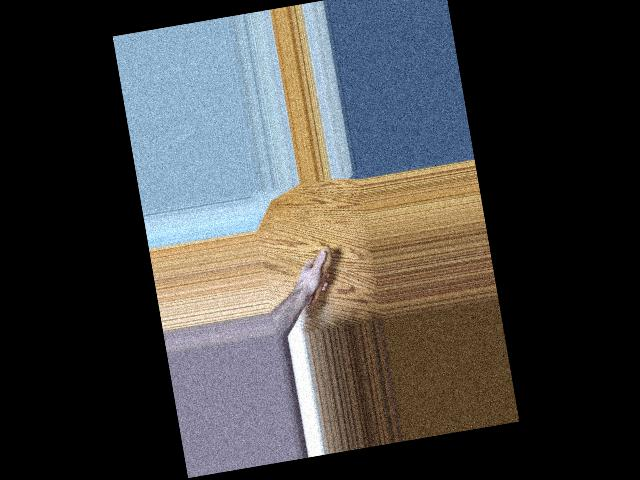sweet_potato: (291, 244, 344, 324)
